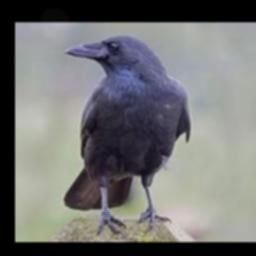Crow: (62, 35, 190, 237)
